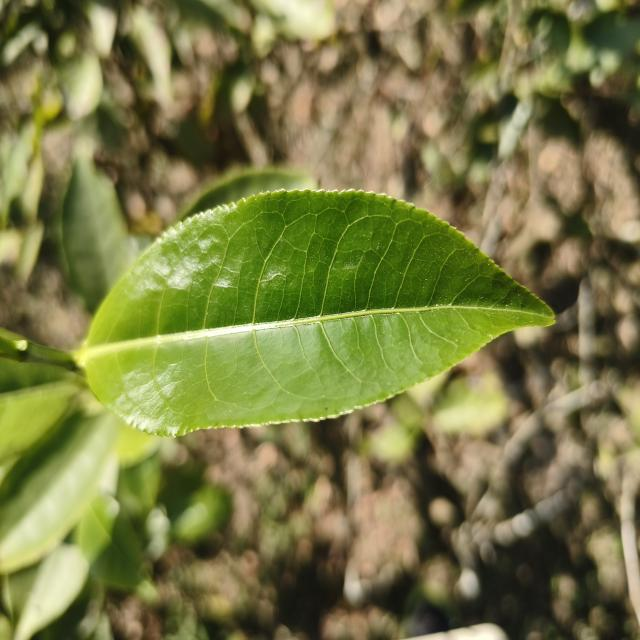Leaf: (76, 190, 554, 436), (0, 411, 119, 573), (62, 156, 133, 312), (73, 494, 156, 600), (0, 358, 80, 464), (3, 544, 89, 640), (433, 372, 508, 436), (173, 485, 230, 542), (62, 54, 102, 120)
